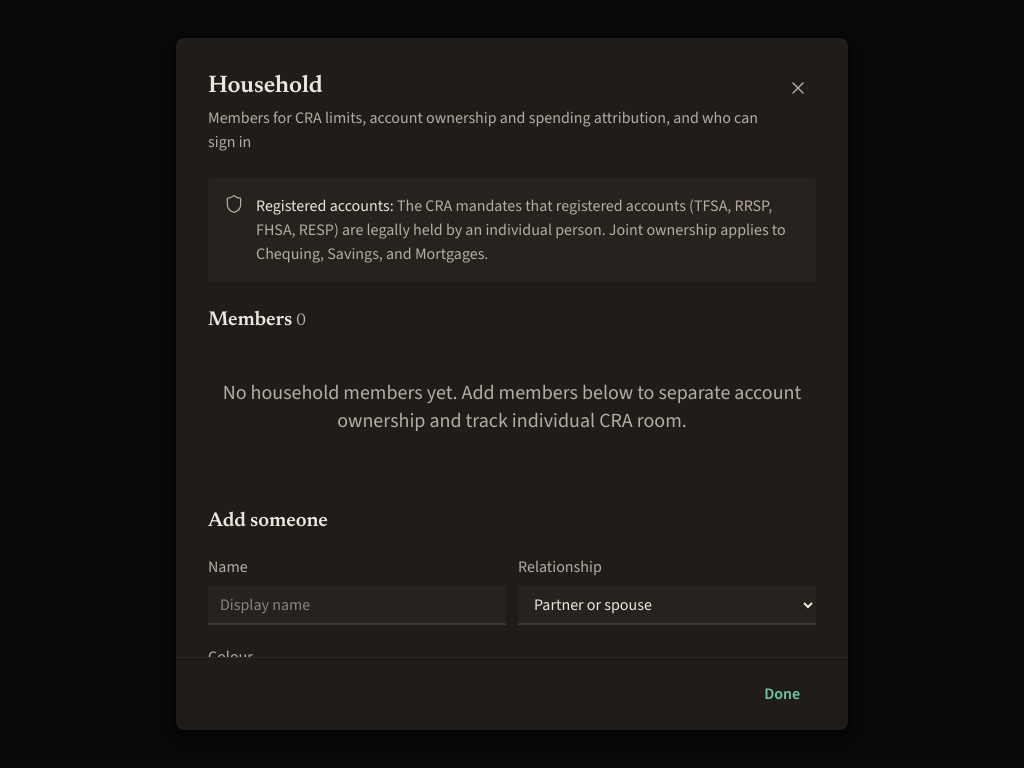
HouseholdModal: adding someone › adds and invites a partner in one request
The width and height of the screenshot is (1024, 768).
Type "Sam" into the field labelled "Name".
click(357, 605); type("Sam")  # box [208,585,506,625]
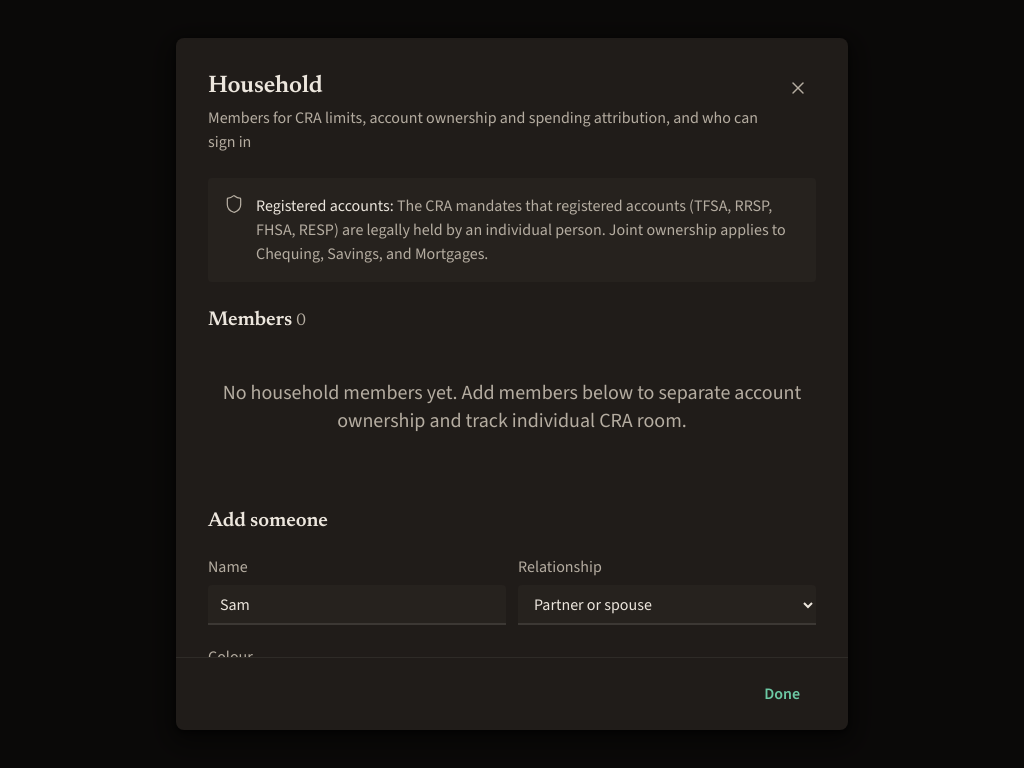
Select "Partner or spouse" in the dropdown labelled "Relationship" at (667, 605), box [518,585,816,625]
(page scrolled)
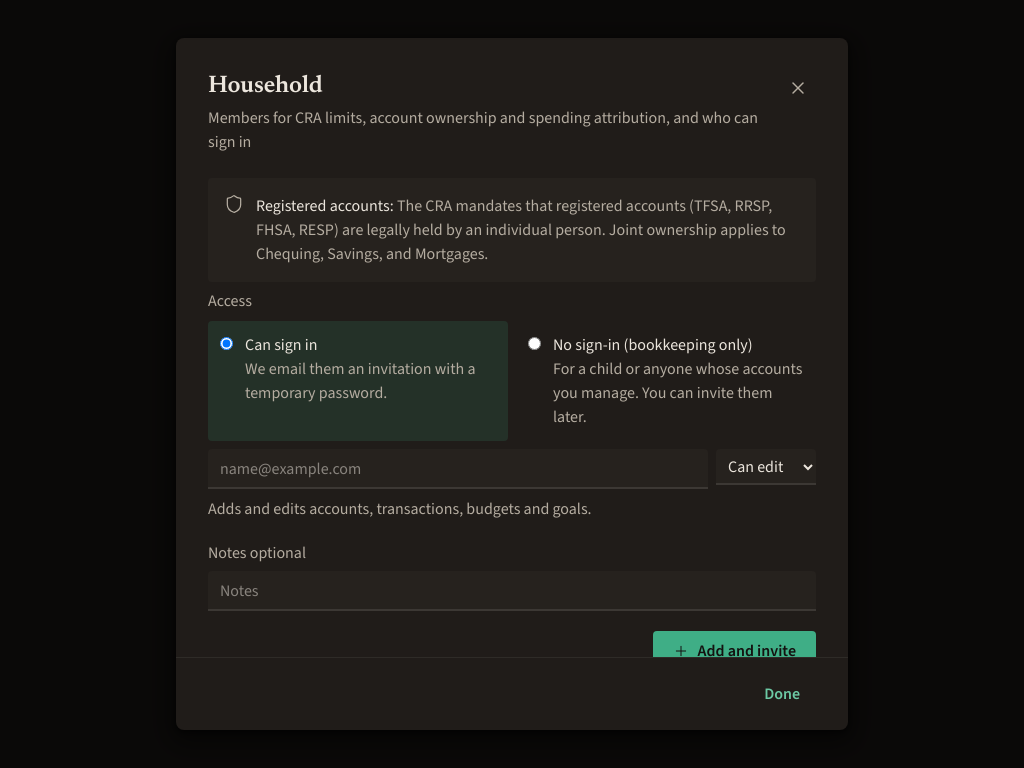
Now the radio button labelled "Can sign in" is checked, box [220,337,233,350]
Type "Sam@Example.com" into the field named "Email address".
click(458, 469); type("Sam@Example.com")  # box [208,449,708,489]
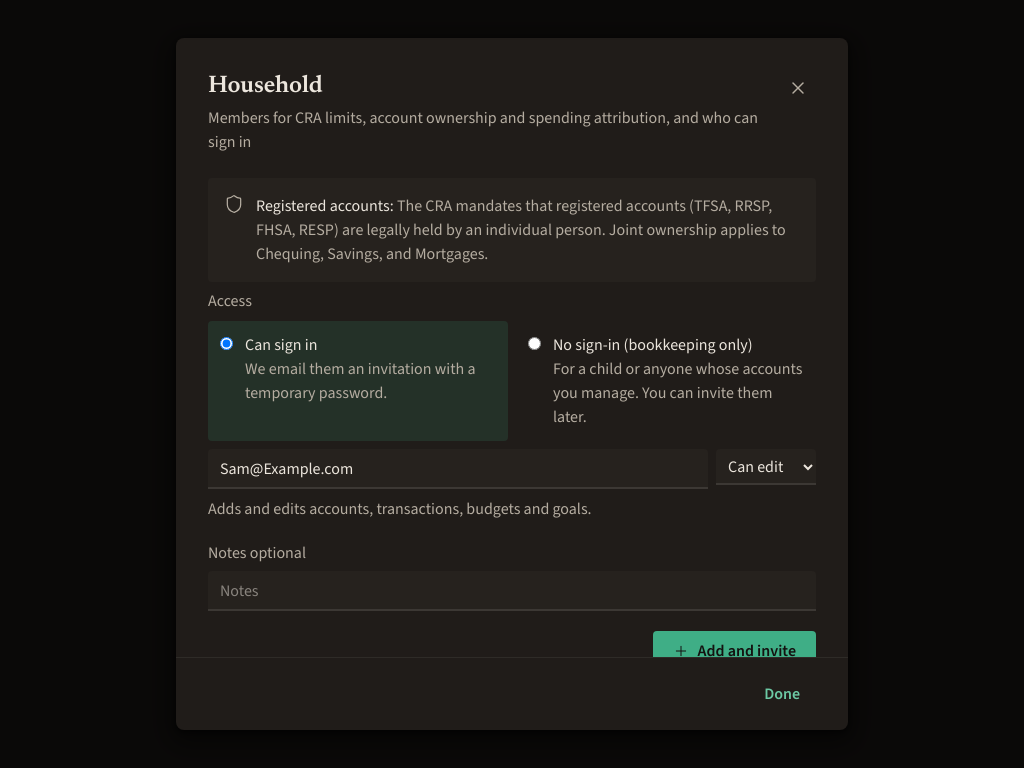
Select "View only" in the dropdown named "What they can do" at (766, 467), box [716,449,816,485]
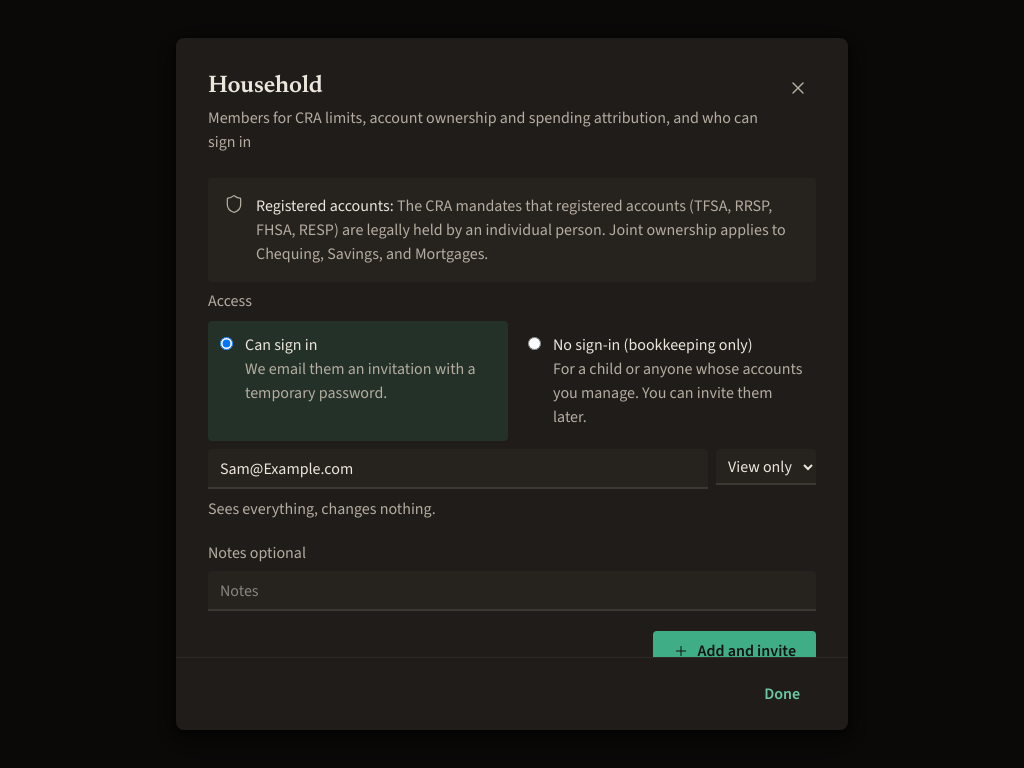
Click the button "Add and invite".
click(735, 651)  # box [654,631,816,671]
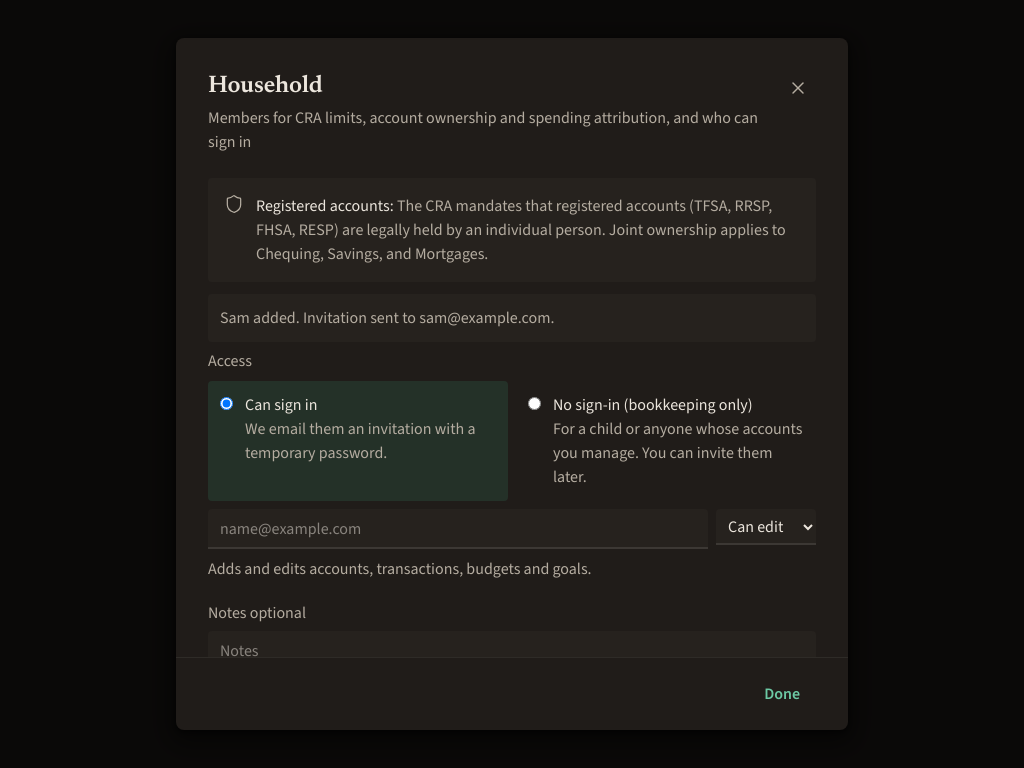
Now the text "Sam added. Invitation sent to sam@example.com." is shown, box [208,294,816,342]
